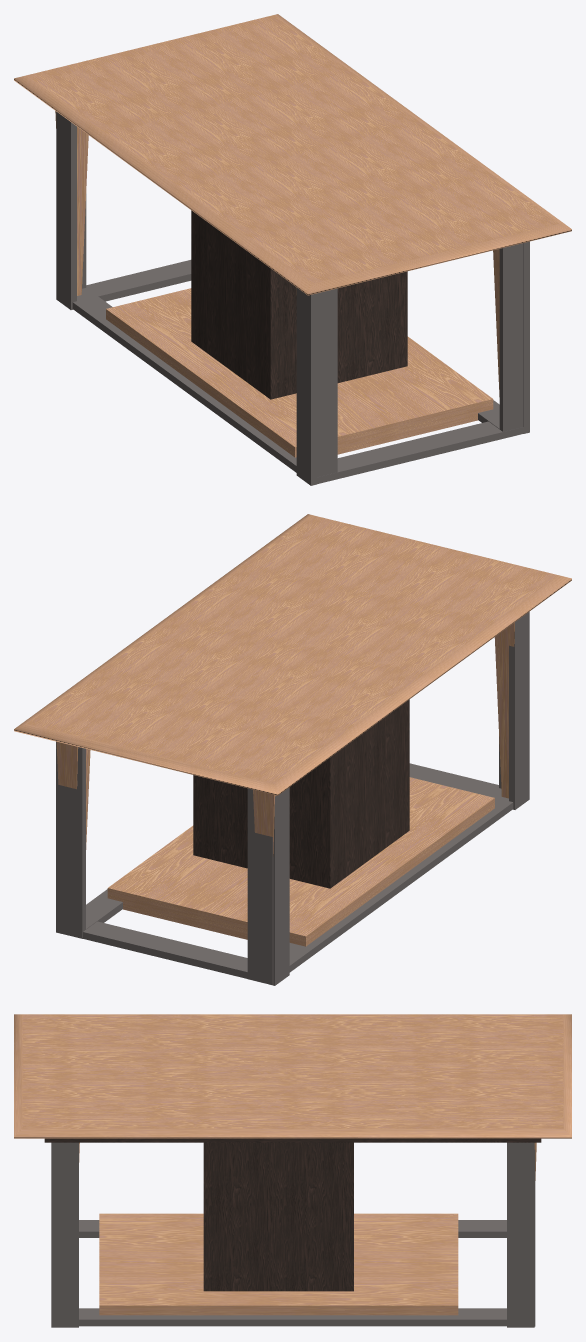
3 views of the same model, one above another, from view 1: azimuth 30°, elevation 25°; view 2: azimuth 150°, elevation 25°; view 3: azimuth 270°, elevation 25° (orthographic). The views are drawn at different scales.
Parts seen in each view (by area): view 1: Wood_Table_1_Top, Wood_Table_1_Legs_2_Top, Wood_Table_1_Legs_2_Bottom, Metal_Table_1_Legs_1_Front, Metal_Table_1_Legs_2_Front.001, Metal_Table_1_Legs_1_Back, Metal_Table_1_Legs_2_Front, Wood_Table_1_Leg_1_Back_Left, Wood_Table_1_Leg_1_Front_Right; view 2: Wood_Table_1_Top, Wood_Table_1_Legs_2_Top, Wood_Table_1_Legs_2_Bottom, Metal_Table_1_Legs_2_Front.001, Metal_Table_1_Legs_1_Back, Metal_Table_1_Legs_2_Front, Metal_Table_1_Legs_1_Front, Wood_Table_1_Leg_1_Front_Left, Wood_Table_1_Leg_1_Back_Right, Wood_Table_1_Leg_1_Back_Left; view 3: Wood_Table_1_Top, Wood_Table_1_Legs_2_Bottom, Wood_Table_1_Legs_2_Top, Metal_Table_1_Legs_2_Front, Metal_Table_1_Legs_1_Back, Metal_Table_1_Legs_1_Front, Wood_Table_1_TopHolder, Metal_Table_1_Legs_2_Front.001.
Boxes of the visible parts, box(x1,y1,x2,y2) form: Wood_Table_1_Top: box(14, 14, 571, 295); Wood_Table_1_Legs_2_Top: box(191, 210, 407, 399); Wood_Table_1_Legs_2_Bottom: box(106, 288, 493, 457); Metal_Table_1_Legs_1_Front: box(296, 241, 529, 485); Metal_Table_1_Legs_2_Front.001: box(72, 194, 337, 477); Metal_Table_1_Legs_1_Back: box(56, 112, 191, 309); Metal_Table_1_Legs_2_Front: box(478, 243, 523, 431); Wood_Table_1_Leg_1_Back_Left: box(55, 111, 88, 295); Wood_Table_1_Leg_1_Front_Right: box(493, 249, 499, 396); Wood_Table_1_Top: box(14, 514, 571, 795); Wood_Table_1_Legs_2_Top: box(193, 699, 409, 888); Wood_Table_1_Legs_2_Bottom: box(107, 777, 494, 946); Metal_Table_1_Legs_2_Front.001: box(247, 737, 513, 985); Metal_Table_1_Legs_1_Back: box(56, 741, 289, 985); Metal_Table_1_Legs_2_Front: box(57, 747, 122, 938); Metal_Table_1_Legs_1_Front: box(409, 612, 529, 809); Wood_Table_1_Leg_1_Front_Left: box(494, 622, 514, 798); Wood_Table_1_Leg_1_Back_Right: box(56, 742, 90, 849); Wood_Table_1_Leg_1_Back_Left: box(253, 789, 276, 856); Wood_Table_1_Top: box(14, 1014, 571, 1138); Wood_Table_1_Legs_2_Bottom: box(99, 1213, 458, 1315); Wood_Table_1_Legs_2_Top: box(203, 1142, 353, 1291); Metal_Table_1_Legs_2_Front: box(79, 1150, 535, 1326); Metal_Table_1_Legs_1_Back: box(507, 1142, 534, 1327); Metal_Table_1_Legs_1_Front: box(51, 1142, 78, 1327); Wood_Table_1_TopHolder: box(44, 1138, 541, 1142); Metal_Table_1_Legs_2_Front.001: box(79, 1220, 506, 1237).
Size of the model in its own units: 6.41 by 5.03 by 12.37.
Materials: 3 (2 with a texture image).
